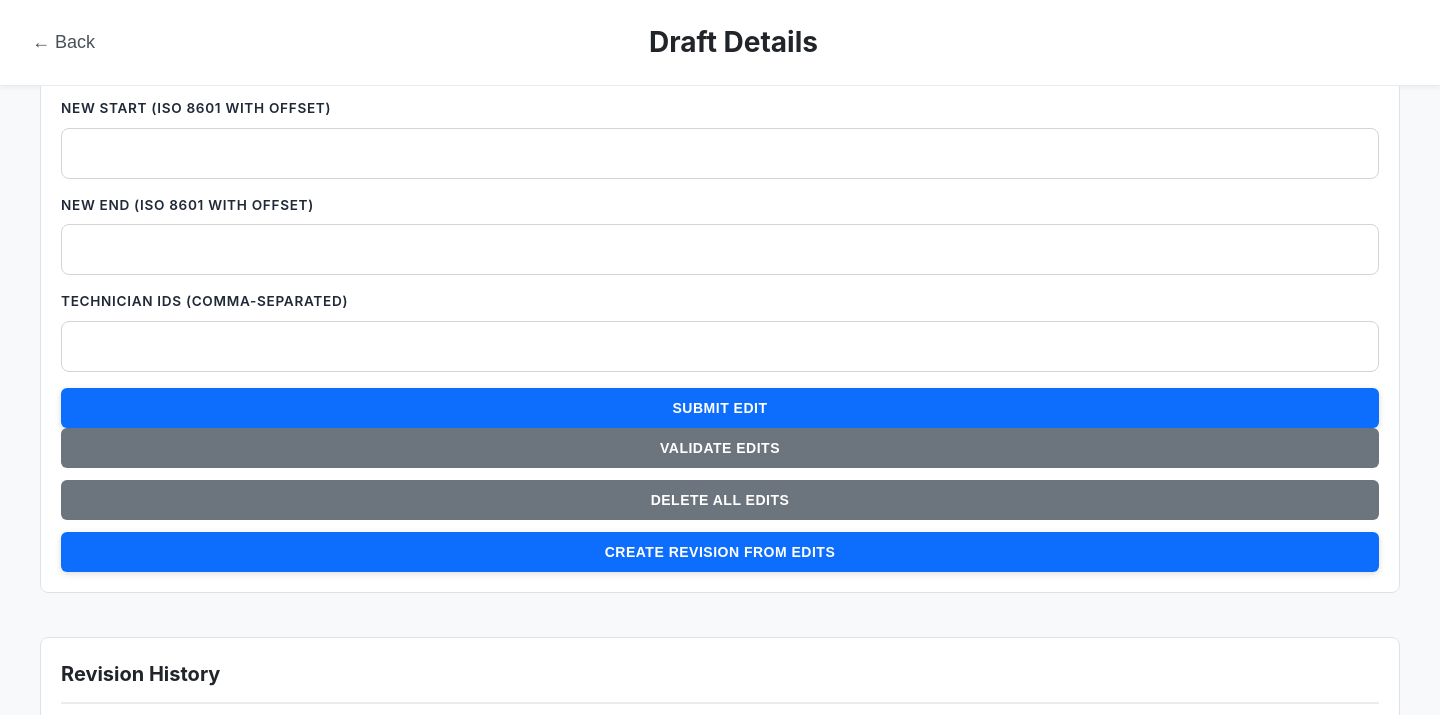
Test case: DraftDetailScreen draft management › shows edit validation violations, and deletes an edit
(page scrolled)
Click the button "Validate edits" at (720, 448), box [61, 428, 1379, 468]
(page scrolled)
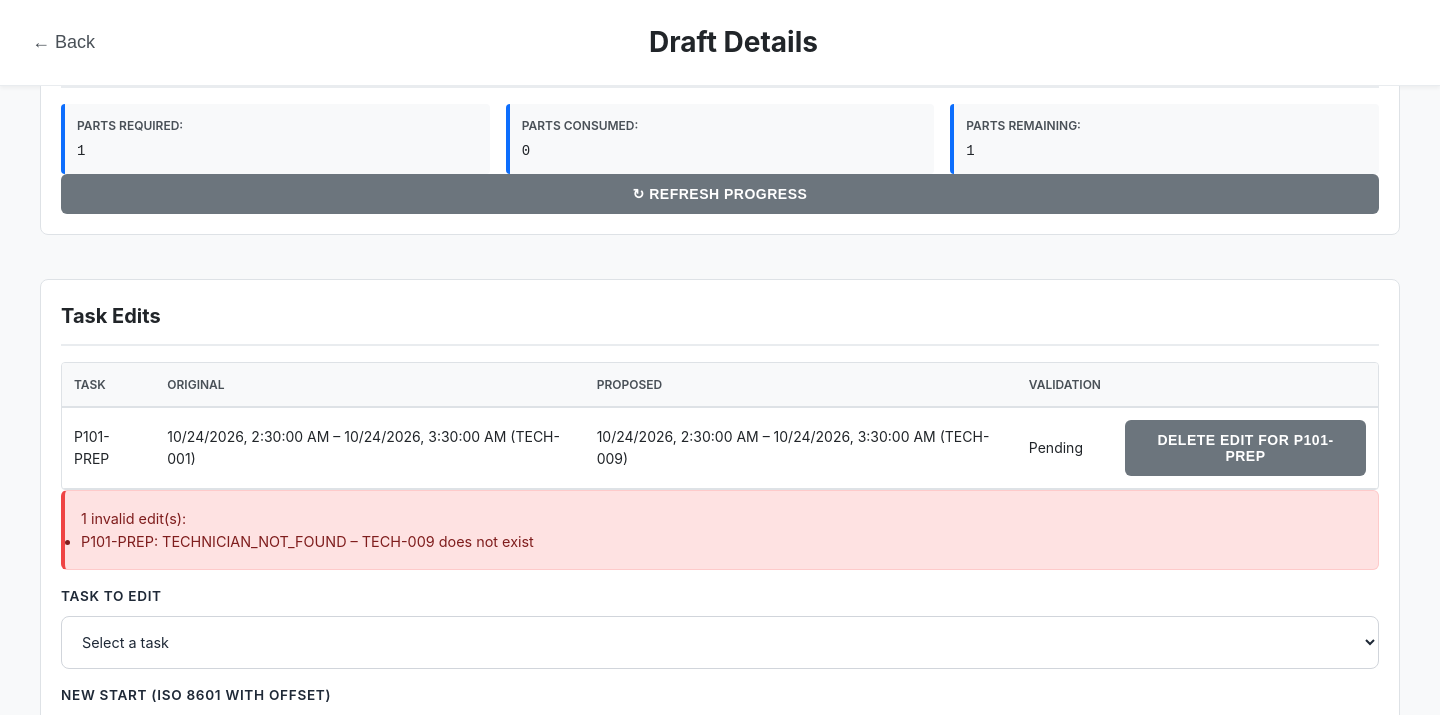
expect the element with test id "edit-validation" shows "TECHNICIAN_NOT_FOUND": met, box [162, 533, 346, 550]
Click the button "Delete edit for P101-PREP" at (1246, 448), box [1125, 420, 1366, 476]
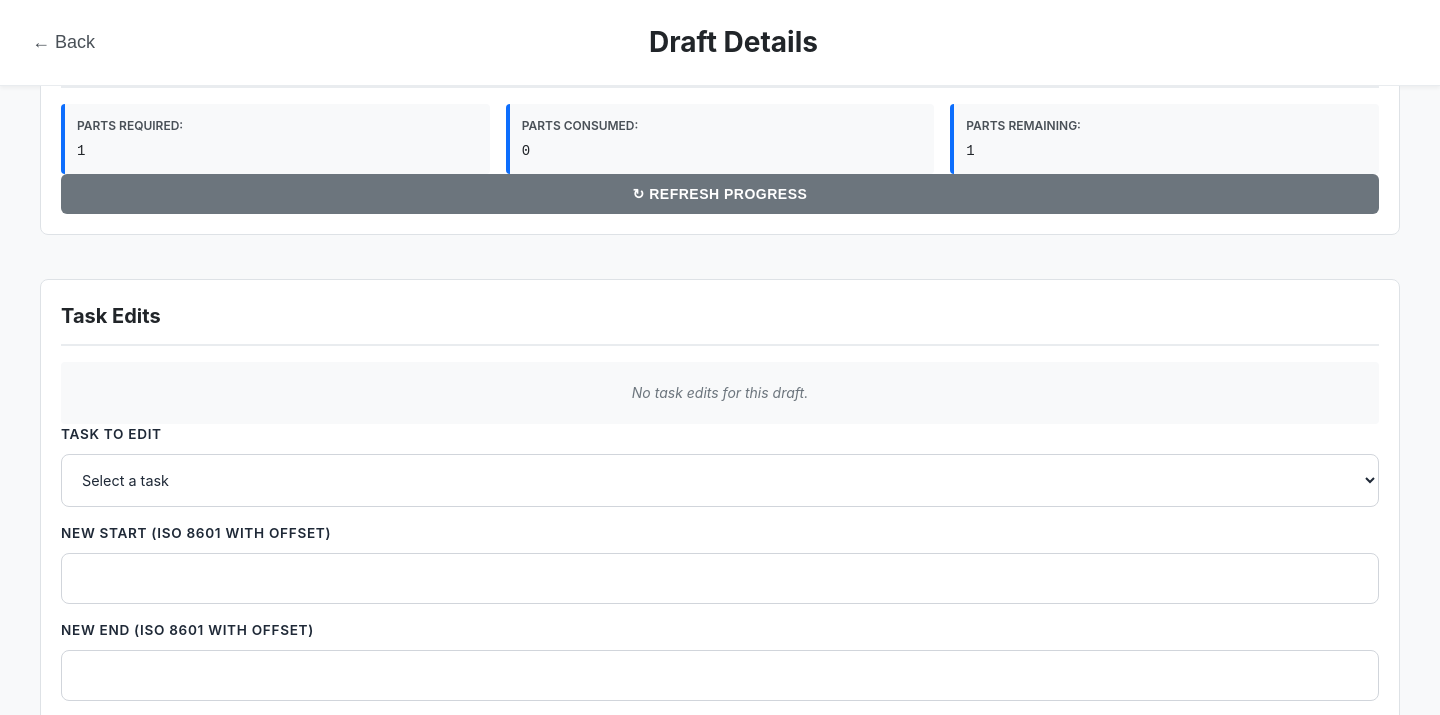
expect the text "No task edits for this draft." is shown: met, box [61, 362, 1379, 424]
